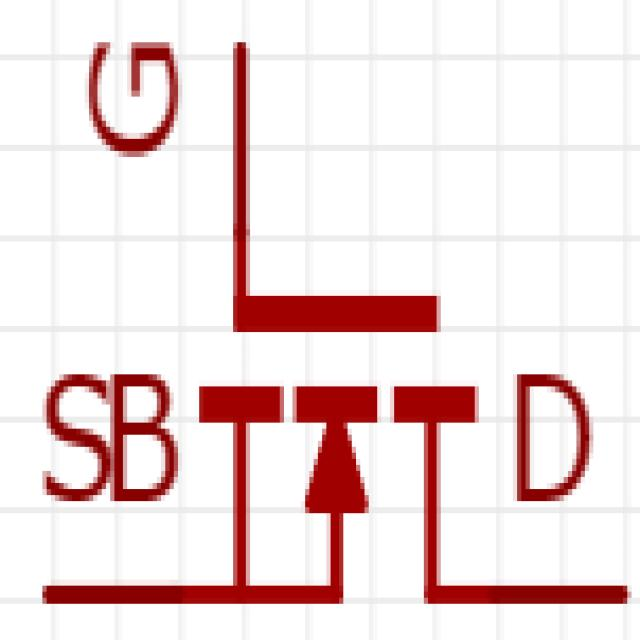nmos: (43, 30, 622, 632)
